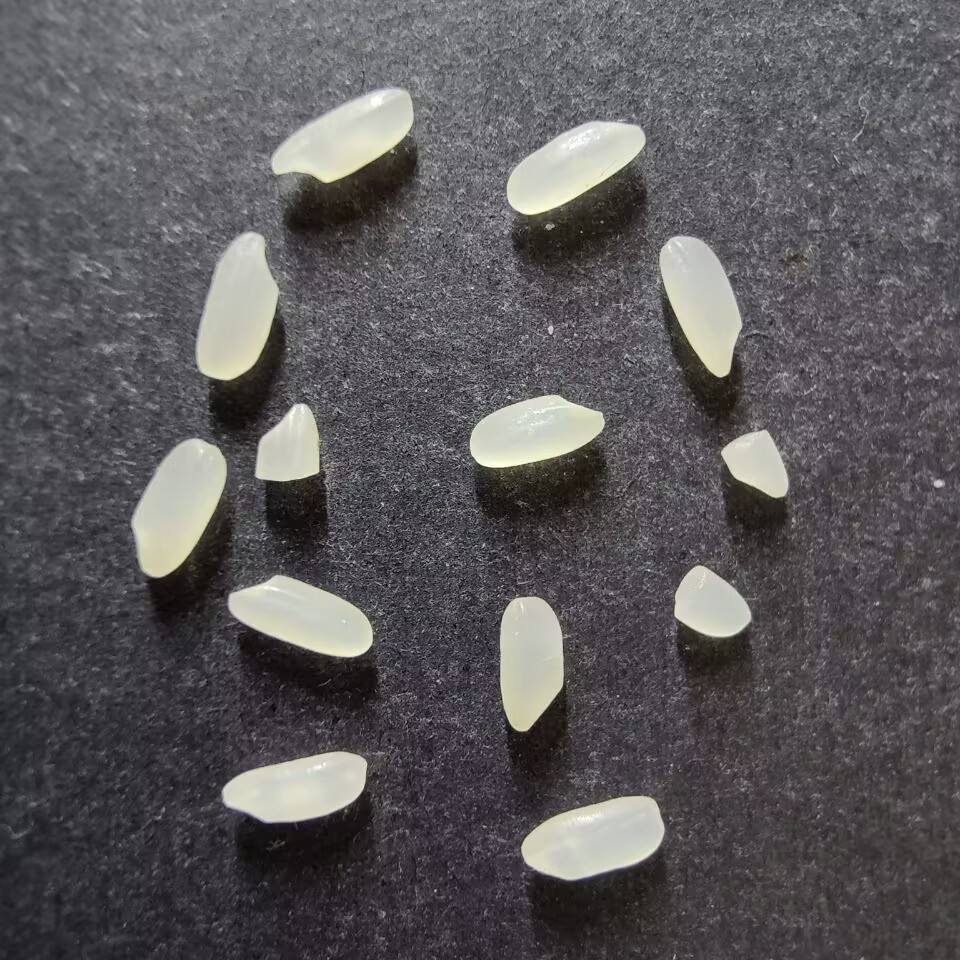broken: (673, 564, 752, 637), (254, 403, 319, 481), (720, 429, 789, 499)
rice: (270, 87, 413, 183), (131, 438, 227, 577), (505, 120, 646, 214), (227, 573, 373, 658), (195, 231, 278, 380), (520, 795, 665, 880), (658, 235, 742, 377), (221, 751, 367, 822), (468, 393, 605, 468), (498, 595, 564, 732)
